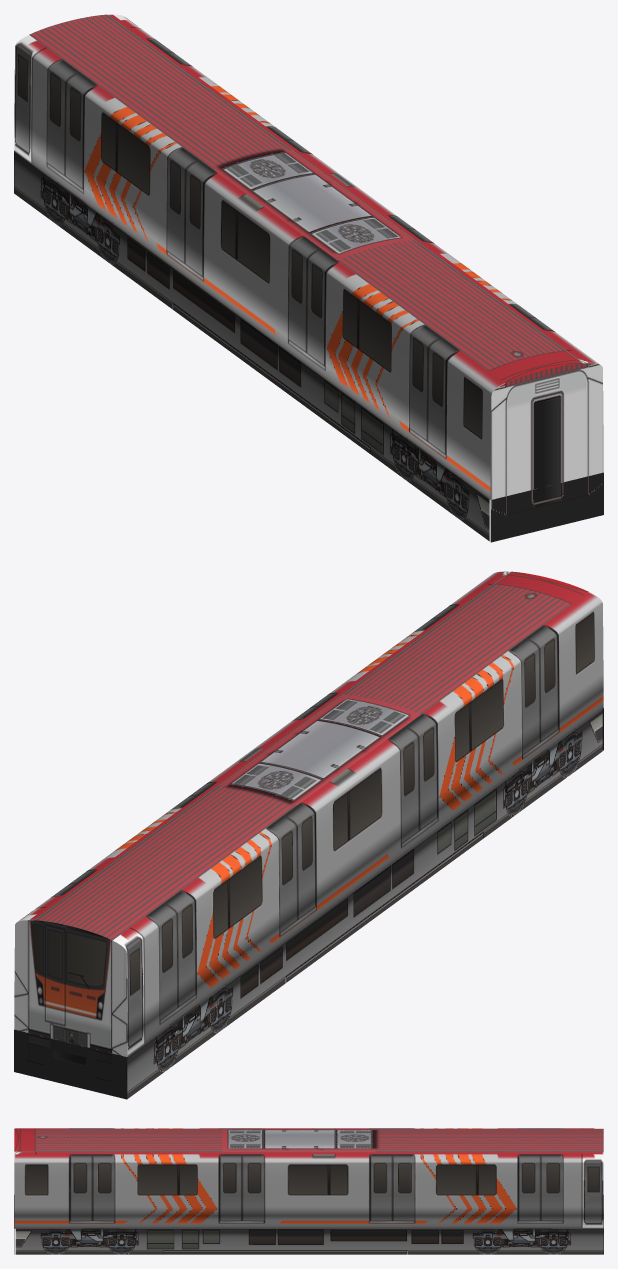
File: car3.glb
The picture shows the model from 3 angles, top to bottom: view 1: azimuth 30°, elevation 25°; view 2: azimuth 150°, elevation 25°; view 3: azimuth 270°, elevation 25°; orthographic projection. The views are drawn at different scales.
Visible parts, largest first — view 1: tokyu-6000-car3; view 2: tokyu-6000-car3; view 3: tokyu-6000-car3.
Boxes of the visible parts, x1=… form: tokyu-6000-car3: x1=14, y1=14, x2=603, y2=542; tokyu-6000-car3: x1=14, y1=571, x2=603, y2=1099; tokyu-6000-car3: x1=14, y1=1128, x2=603, y2=1254.
Bounding box in the file's own units: 2.8 × 3.77 × 20.47.
8 materials, 7 textured.
